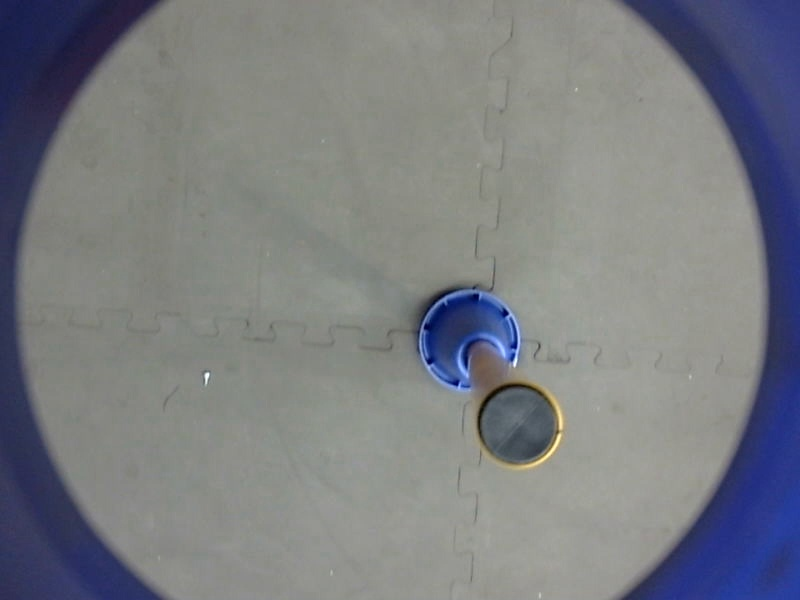tip: (466, 373, 569, 475)
